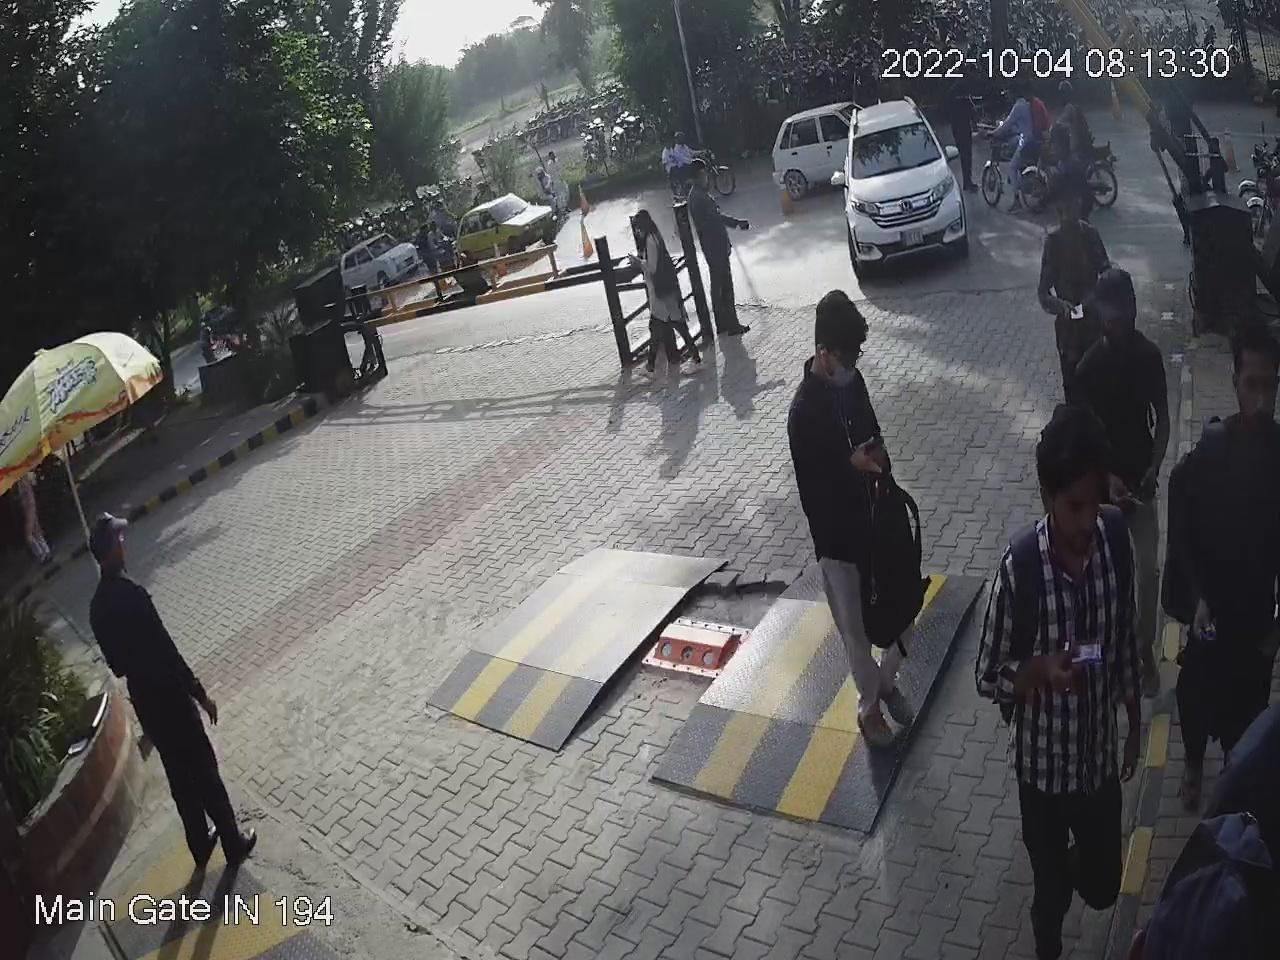windshield: (843, 113, 950, 183)
